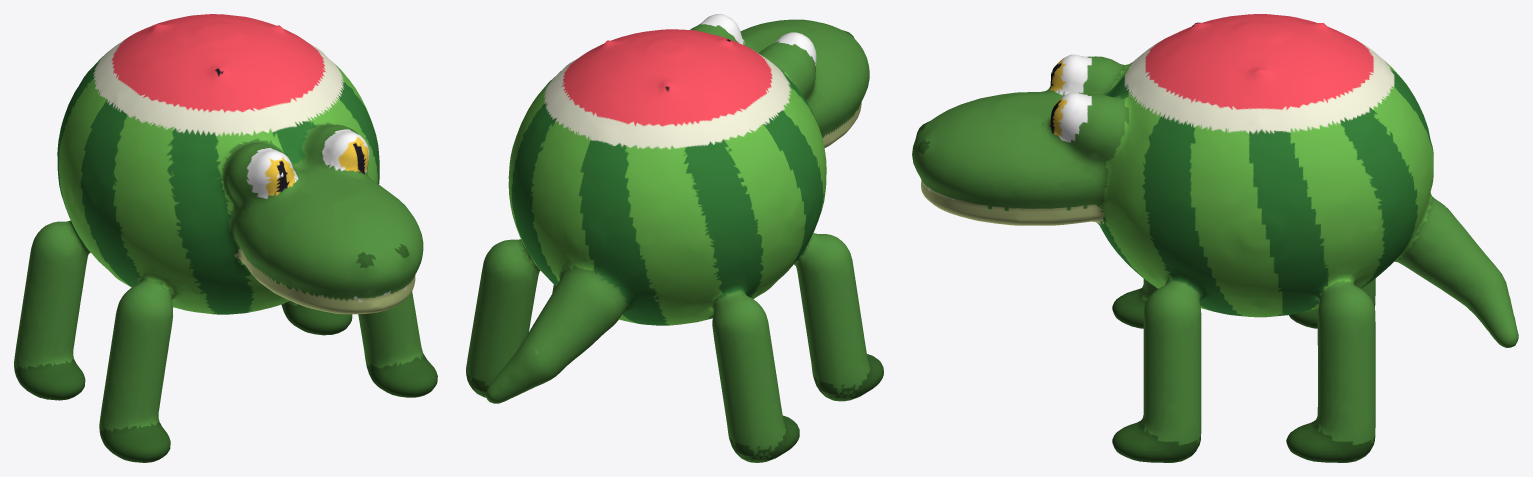
File: SM_Glorbo_Fruttodrillo.fbx
3 views of the same model, side by side, from view 1: azimuth 30°, elevation 25°; view 2: azimuth 150°, elevation 25°; view 3: azimuth 270°, elevation 25° (orthographic). The views are drawn at different scales.
Visible parts, largest first — view 1: Glorbo_Fruttodrillo; view 2: Glorbo_Fruttodrillo; view 3: Glorbo_Fruttodrillo.
Boxes of the visible parts, x1,y1,x2,y2 form: Glorbo_Fruttodrillo: (14,14,437,462); Glorbo_Fruttodrillo: (466,14,883,462); Glorbo_Fruttodrillo: (912,14,1518,462).
Bounding box in the file's own units: 0.9141 × 0.9599 × 1.46.
Materials: 1 (1 with a texture image).
